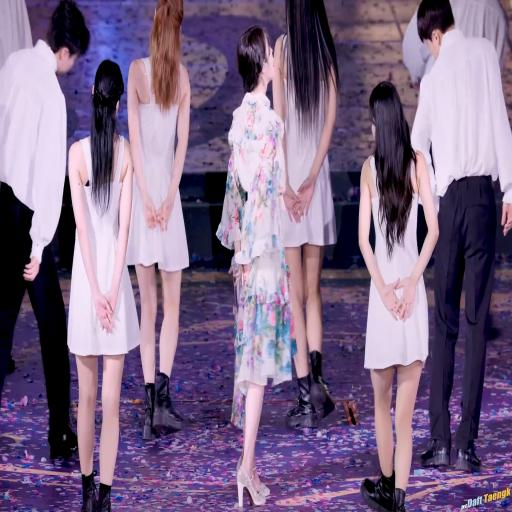IU: (237, 24, 276, 91)
